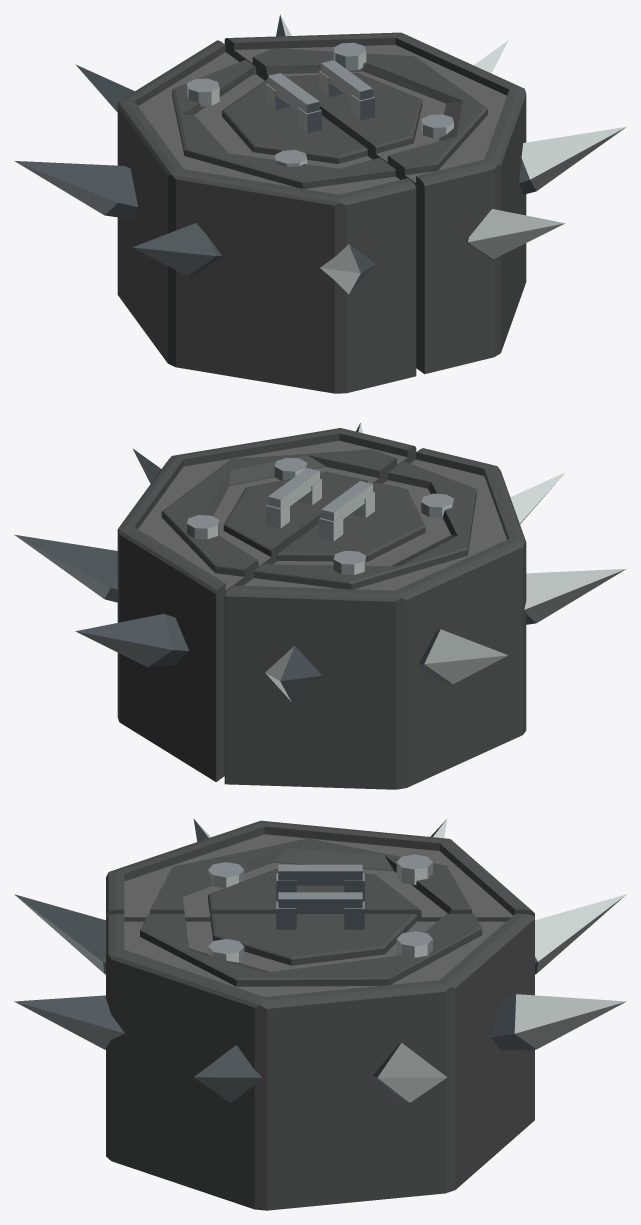
Rendered from stone_spike_door.fbx.
The picture shows the model from 3 angles, top to bottom: view 1: azimuth 30°, elevation 25°; view 2: azimuth 150°, elevation 25°; view 3: azimuth 270°, elevation 25°; orthographic projection. The views are drawn at different scales.
Parts seen in each view (by area): view 1: stone_spike_door_panel_left, stone_spike_door_panel_right; view 2: stone_spike_door_panel_left, stone_spike_door_panel_right; view 3: stone_spike_door_panel_right, stone_spike_door_panel_left.
Part boxes in pixels (left/top/right/bottom): stone_spike_door_panel_left: left=14, top=40, right=416, bottom=393; stone_spike_door_panel_right: left=224, top=14, right=625, bottom=374; stone_spike_door_panel_left: left=224, top=448, right=626, bottom=789; stone_spike_door_panel_right: left=14, top=422, right=416, bottom=781; stone_spike_door_panel_right: left=14, top=892, right=626, bottom=1210; stone_spike_door_panel_left: left=14, top=819, right=626, bottom=974.
Bounding box in the file's own units: 5.4 × 2.29 × 5.4.
1 material, 1 textured.
